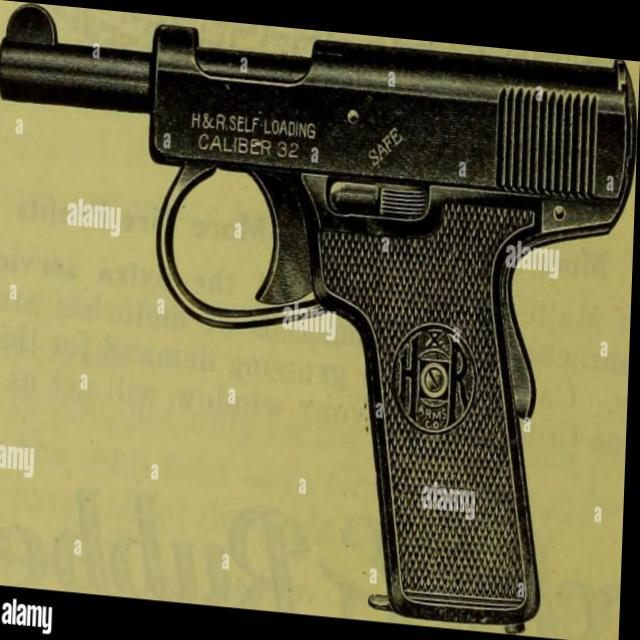handgun: (0, 0, 640, 628)
